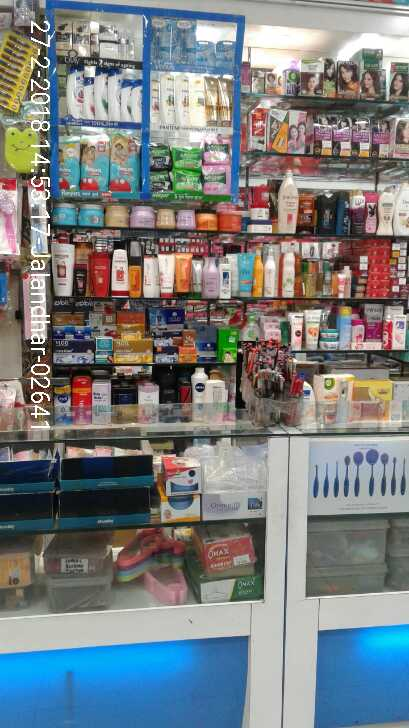venus: (170, 23, 194, 63), (152, 17, 170, 63), (196, 39, 216, 68), (216, 40, 233, 68)
